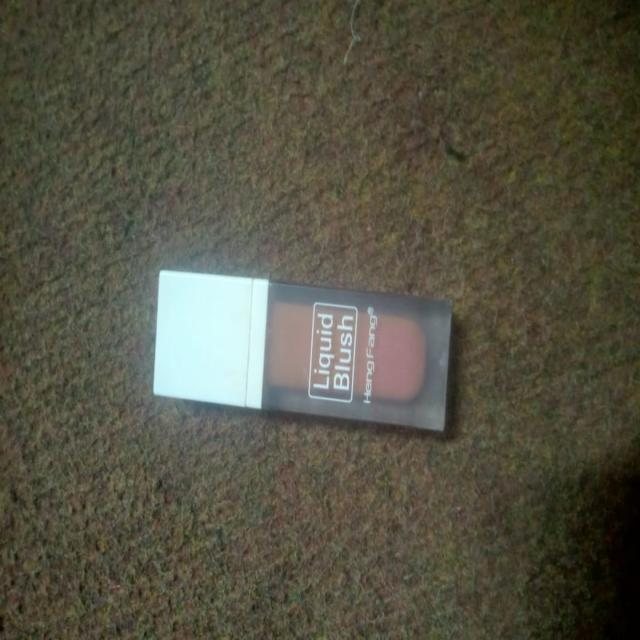lip gloss: (126, 253, 472, 437)
